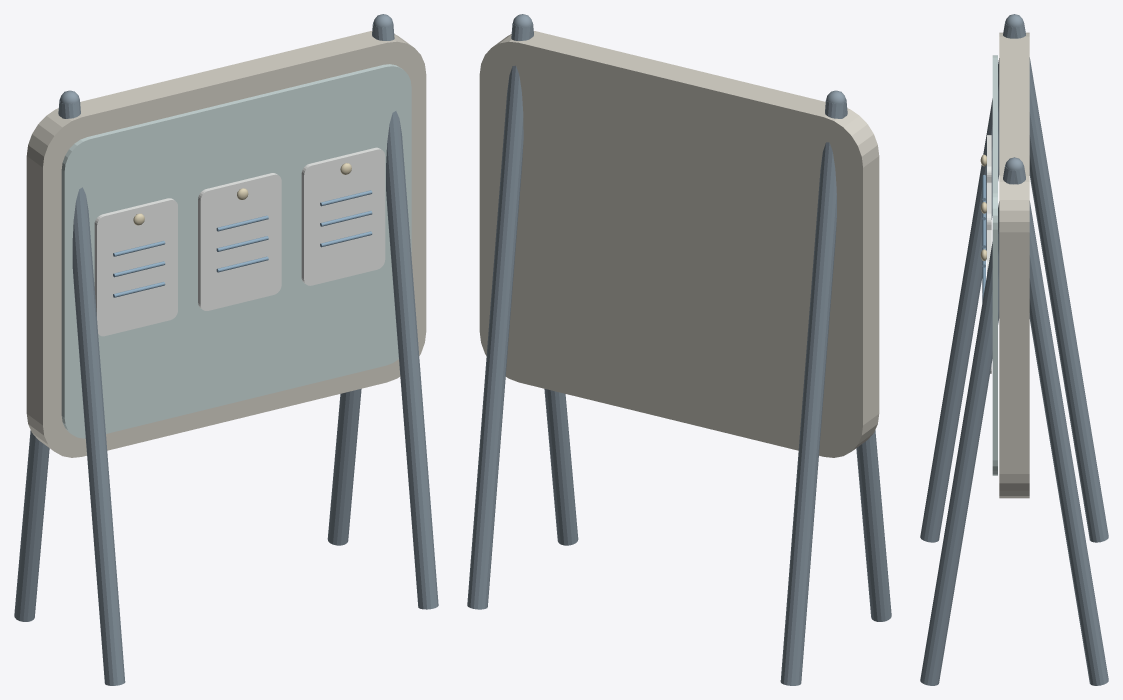
Rendered from notice_easel.glb.
3 renders of one model, left to right at view 1: azimuth 30°, elevation 25°; view 2: azimuth 150°, elevation 25°; view 3: azimuth 270°, elevation 25°, orthographic. The views are drawn at different scales.
Parts seen in each view (by area): view 1: decor_9bb7b5_matte, decor_aaa493_matte, decor_d8dcd8_matte, decor_455665_metal, decor_476a8a_matte; view 2: decor_aaa493_matte, decor_455665_metal; view 3: decor_455665_metal, decor_aaa493_matte, decor_9bb7b5_matte, decor_d8dcd8_matte, decor_476a8a_matte.
Boxes of the visible parts, x1=… form: decor_9bb7b5_matte: x1=61, y1=64, x2=411, y2=438; decor_aaa493_matte: x1=26, y1=31, x2=426, y2=457; decor_d8dcd8_matte: x1=94, y1=147, x2=385, y2=336; decor_455665_metal: x1=14, y1=14, x2=438, y2=685; decor_476a8a_matte: x1=113, y1=190, x2=372, y2=297; decor_aaa493_matte: x1=479, y1=31, x2=879, y2=457; decor_455665_metal: x1=467, y1=14, x2=891, y2=685; decor_455665_metal: x1=920, y1=14, x2=1108, y2=685; decor_aaa493_matte: x1=999, y1=32, x2=1029, y2=498; decor_9bb7b5_matte: x1=992, y1=55, x2=997, y2=475; decor_d8dcd8_matte: x1=987, y1=135, x2=991, y2=373; decor_476a8a_matte: x1=982, y1=175, x2=985, y2=302.
Size of the model in its own units: 1.37 by 1.91 by 0.6226.
